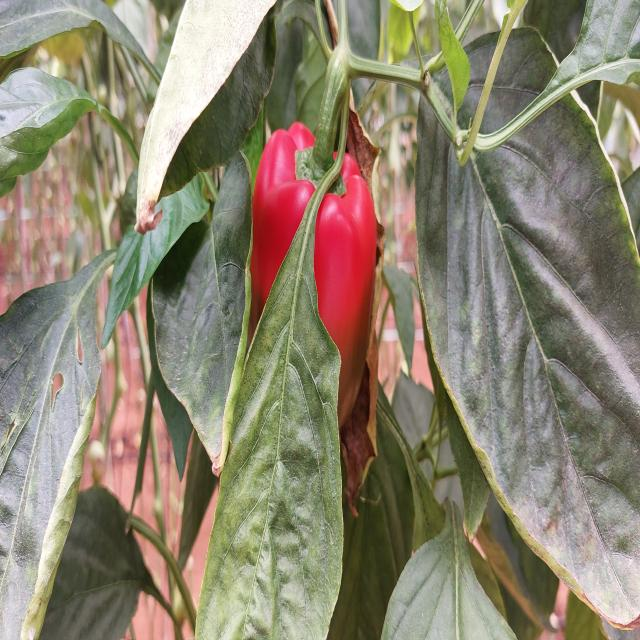Red-Ready-to-Harvest: (258, 117, 370, 451)
